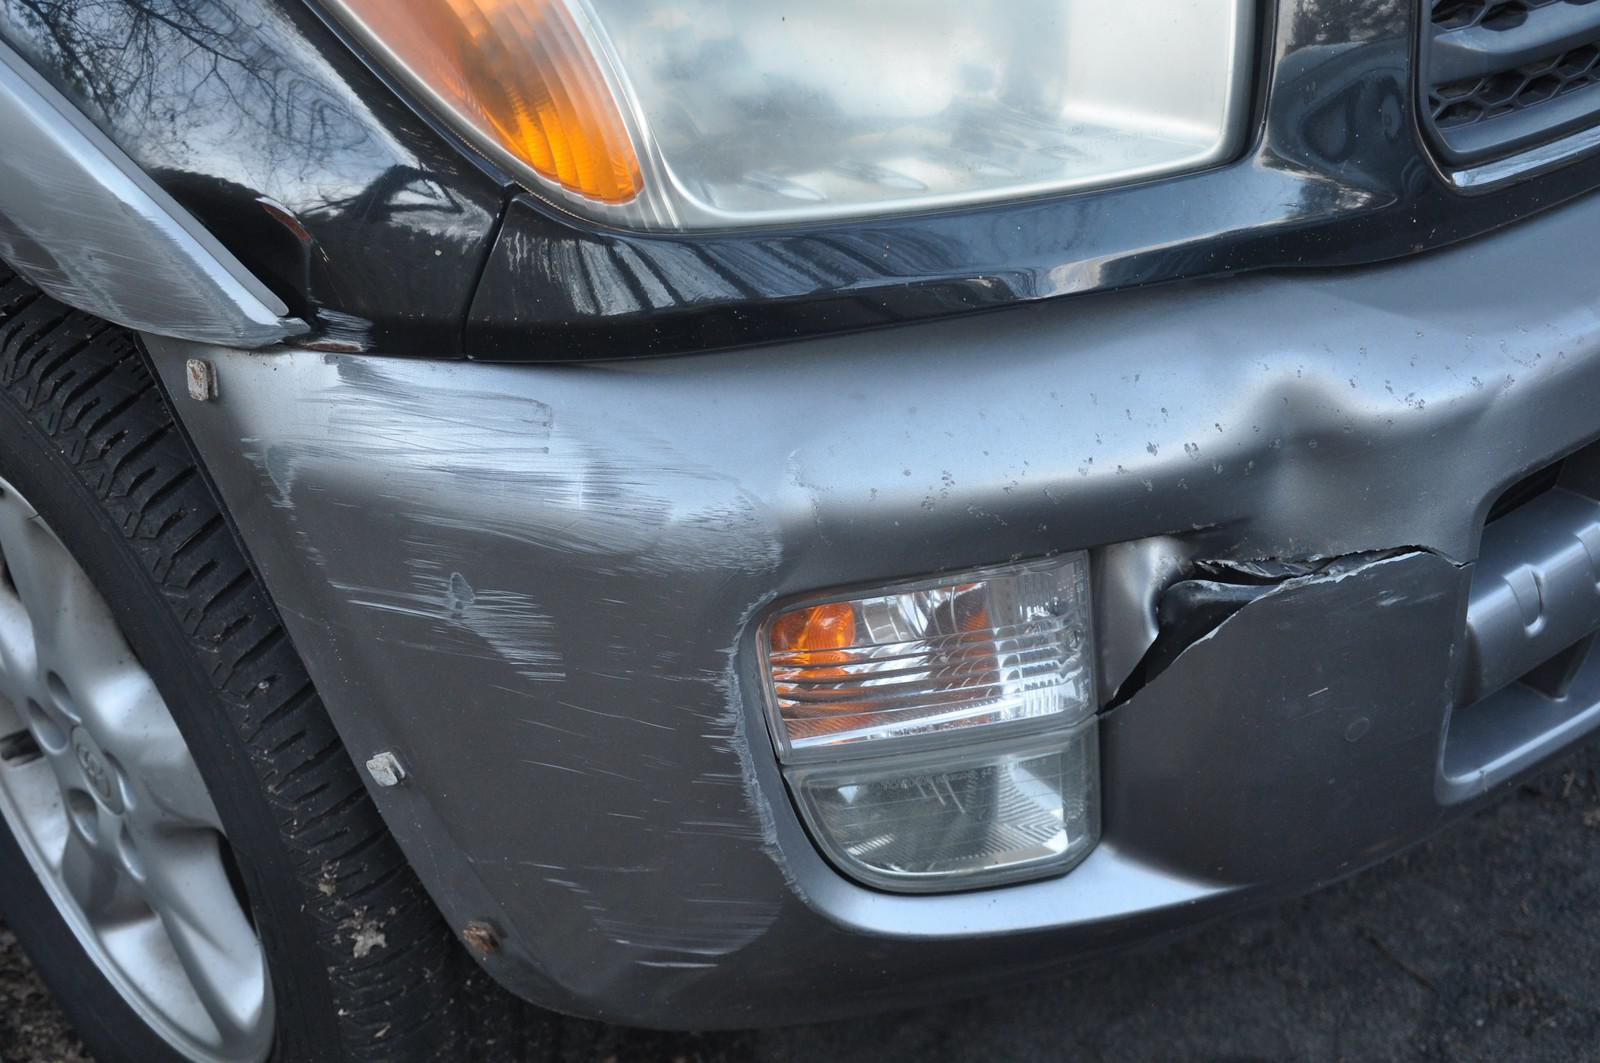front-bumper-dent: (238, 365, 1599, 991)
